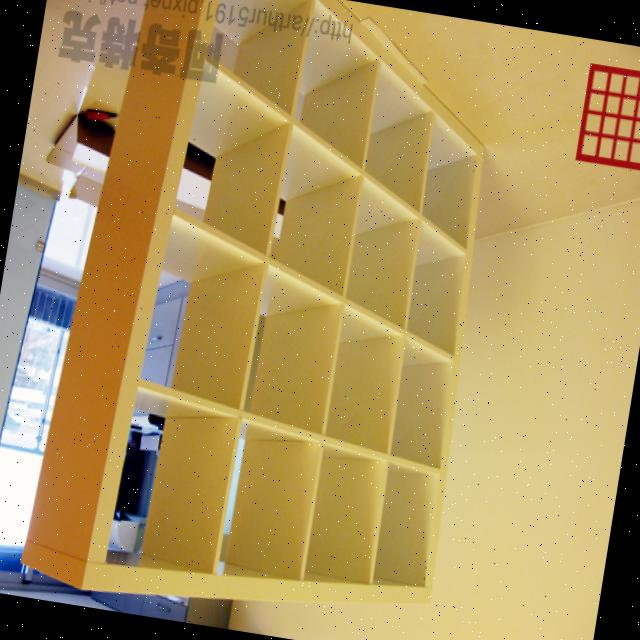Shelf: (15, 0, 529, 640)
